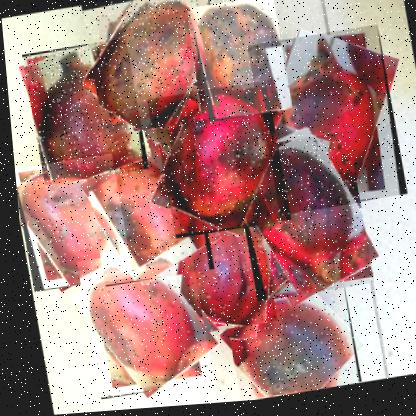pomegranate_rotten: (245, 28, 404, 220), (226, 134, 370, 306), (144, 83, 287, 242), (70, 245, 207, 401), (80, 0, 229, 138), (78, 139, 210, 289), (19, 38, 146, 187), (213, 272, 356, 404), (11, 153, 129, 293), (161, 210, 271, 339), (187, 0, 291, 126)
